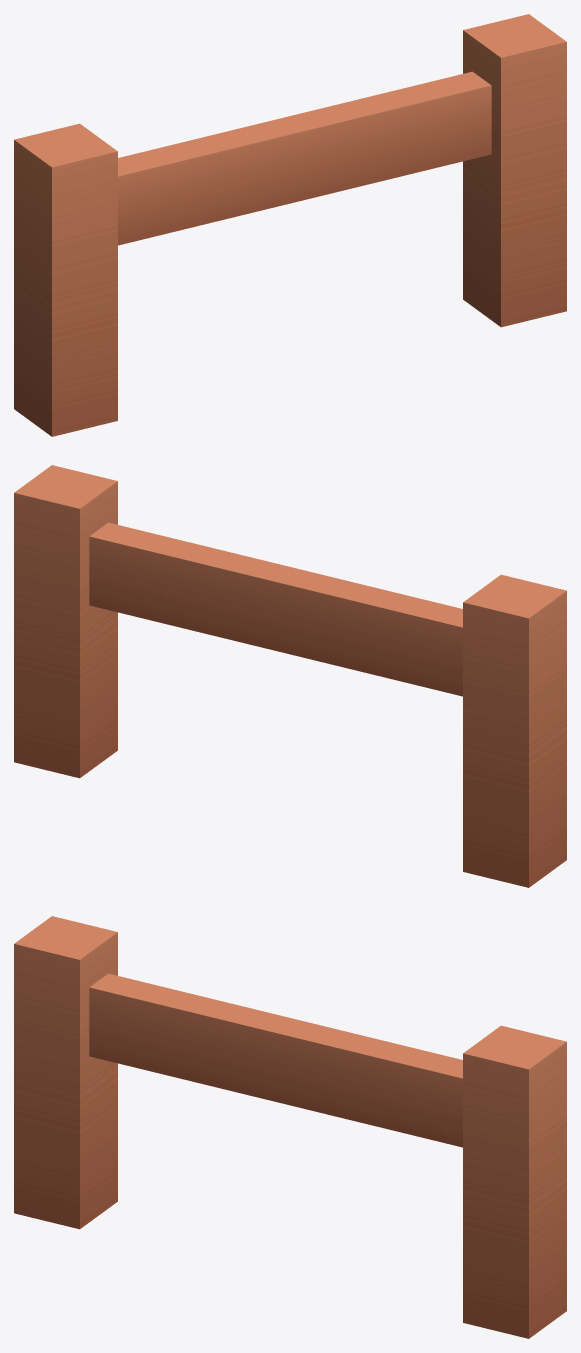
File: wood-structure-part.glb
The picture shows the model from 3 angles, top to bottom: view 1: azimuth 30°, elevation 25°; view 2: azimuth 150°, elevation 25°; view 3: azimuth 330°, elevation 25°; orthographic projection.
Visible parts, largest first — view 1: wood-structure-part; view 2: wood-structure-part; view 3: wood-structure-part.
Part boxes in pixels (x1=…): wood-structure-part: x1=14, y1=14, x2=566, y2=436; wood-structure-part: x1=14, y1=465, x2=566, y2=887; wood-structure-part: x1=14, y1=916, x2=566, y2=1338.
Size of the model in its own units: 1 by 0.5 by 0.128.
1 material, 1 textured.
